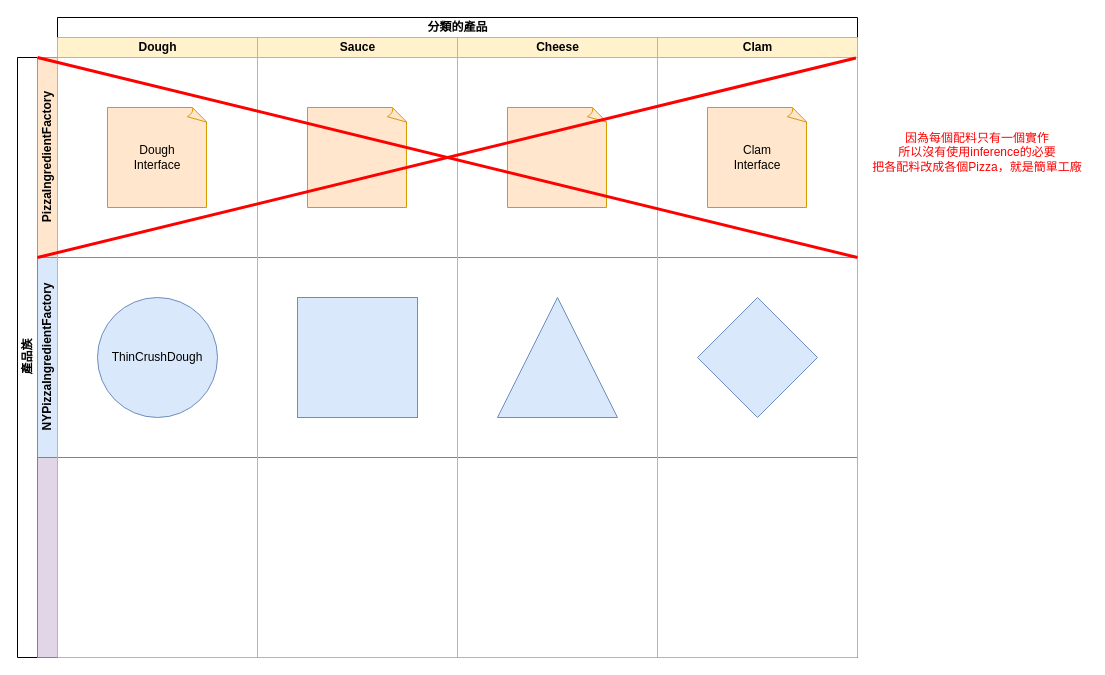
Image size: 1105x675. Some labels were removed from this diagram. The shapes that lost their labels are listed below. From the top down, each one's box as (x1, y1, x2, y2) in pixels, then its label:
(306, 106, 408, 208): Sauce Interface
(506, 106, 608, 208): Cheese Interface
(296, 296, 418, 418): MarinaraSauce
(496, 296, 618, 418): ReggianoCheese
(696, 296, 818, 418): FreshClam
